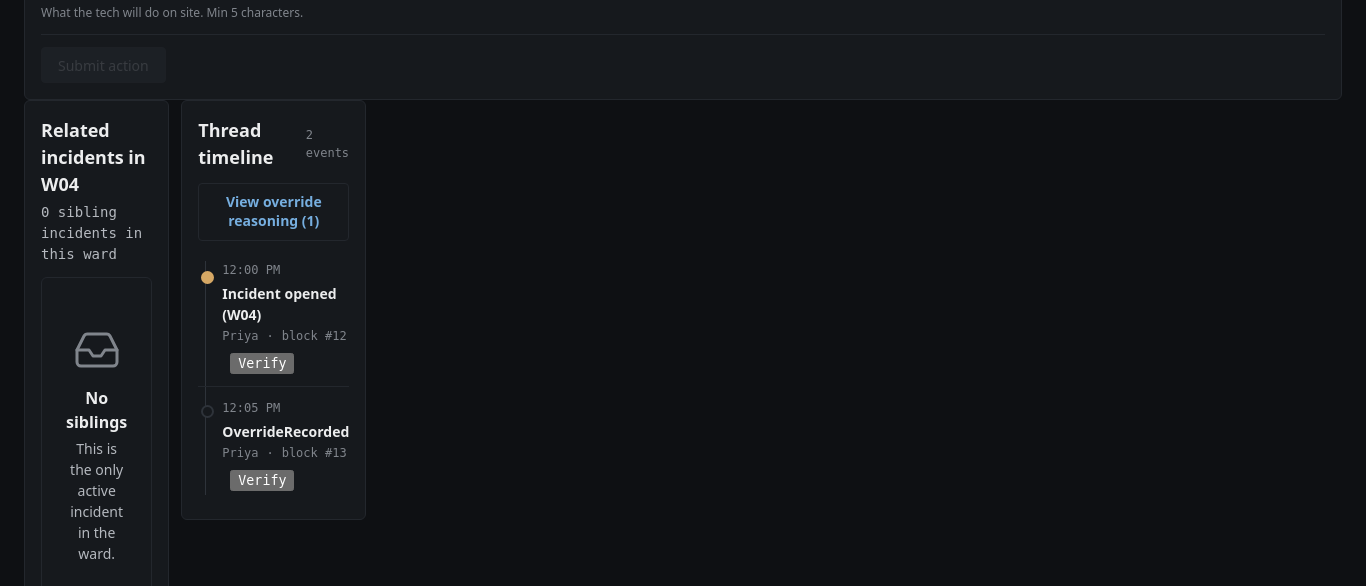
FE-B6 InboxDetail override-reasoning affordance (inbox-detail.md #15 / REQ-009) › renders the override-reasoning affordance when OverrideRecorded event exists
The width and height of the screenshot is (1366, 586).
(page scrolled)
Expected: the element with test id "inbox-detail-override-reasoning-affordance" is shown, [198,183,349,241]
Click the button with test id "inbox-detail-override-toggle" at (274, 211), box [211,192,336,230]
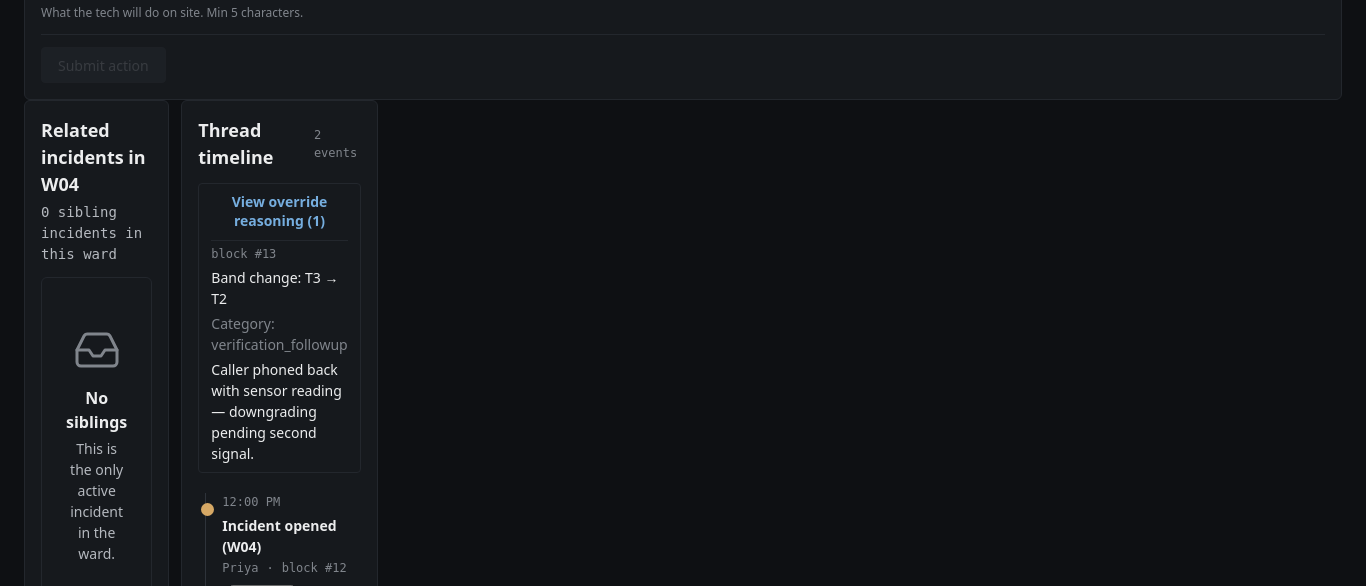
Now the button with test id "inbox-detail-override-toggle" is expanded
Now the element with test id "inbox-detail-override-payload-ev-2" is shown, box [211,240,348,464]
Now the element with test id "inbox-detail-override-payload-ev-2" shows "T3", box [211,268,338,308]
# Collapse again — payload unmounts.
Click the button with test id "inbox-detail-override-toggle" at (280, 211), box [211,192,348,230]
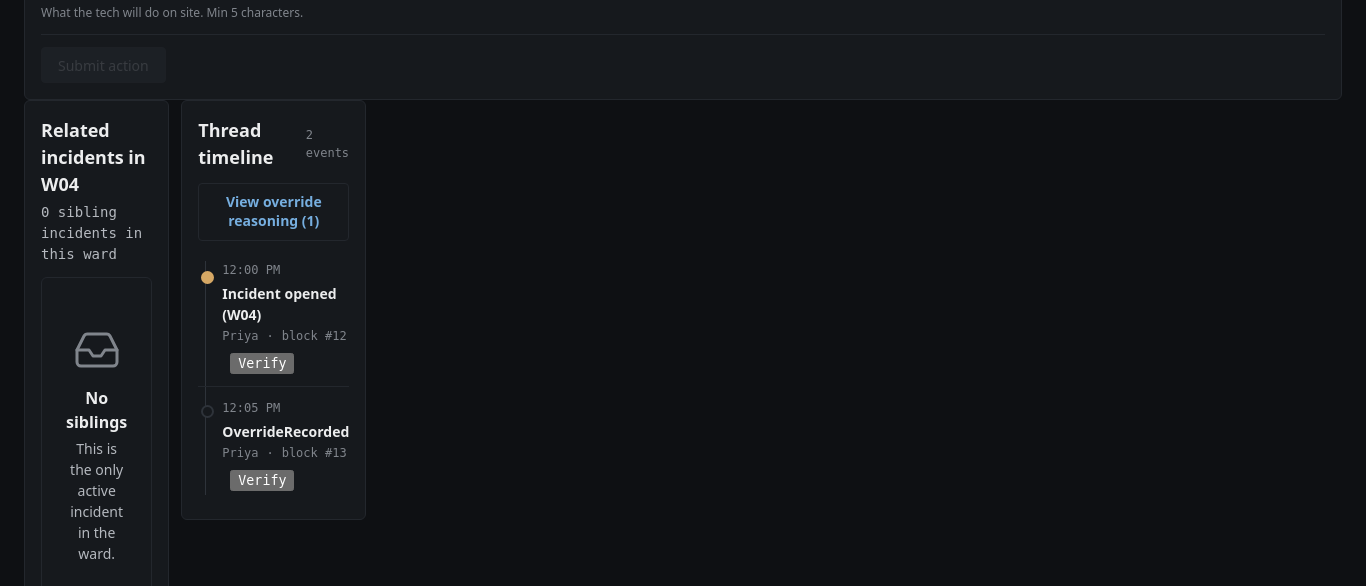
Now the button with test id "inbox-detail-override-toggle" is collapsed, box [211,192,336,230]
Now the element with test id "inbox-detail-override-payload" is gone
